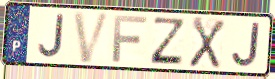F: (111, 14, 149, 64)
J: (230, 21, 262, 69), (36, 13, 65, 60)
V: (72, 10, 113, 64)
X: (188, 16, 227, 71)
Z: (148, 16, 187, 67)
